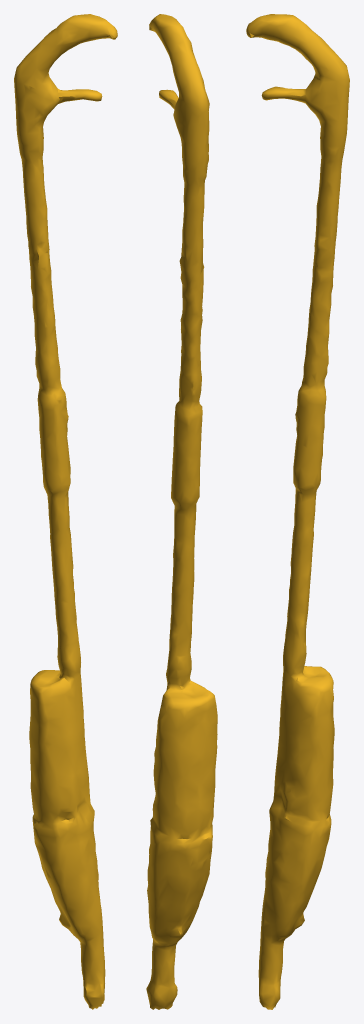
The model's file is g1_13_mop_props.glb.
3 renders of one model, left to right at view 1: azimuth 90°, elevation 25°; view 2: azimuth 210°, elevation 25°; view 3: azimuth 270°, elevation 25°, orthographic.
Parts seen in each view (by area): view 1: o00; view 2: o00; view 3: o00.
Part boxes in pixels (x1,y1,x2,y2): o00: (14, 14, 117, 1009); o00: (146, 14, 217, 1009); o00: (246, 14, 349, 1009).
Size of the model in its own units: 0.0711 by 1.17 by 0.1112.
